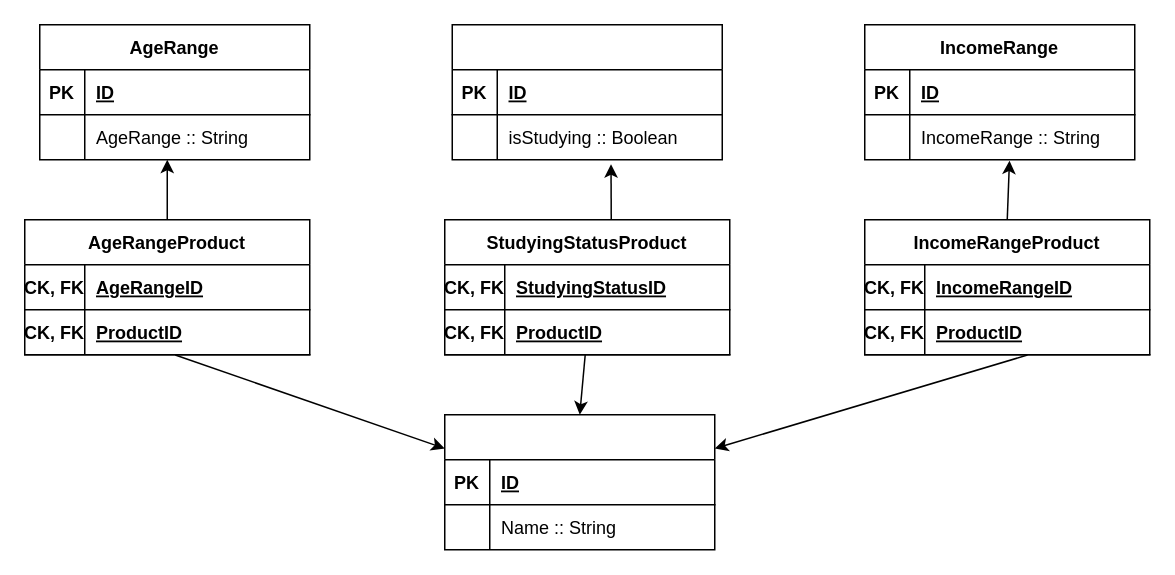
This 1175x575 diagram has some shape labels left out. Each missing label, with the box of its shape:
Product: (443, 413, 715, 550)
StudyingStatus: (451, 23, 722, 160)
